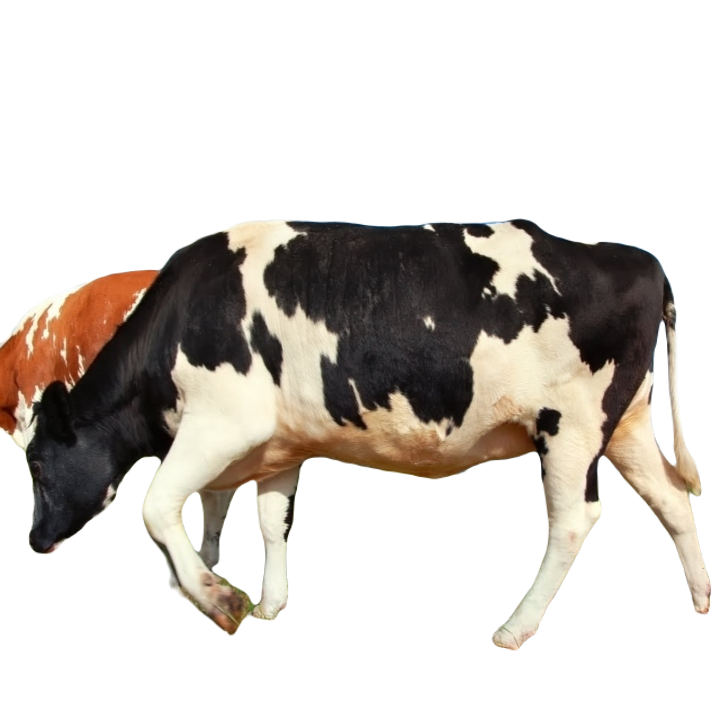Cow: (23, 216, 714, 649)
